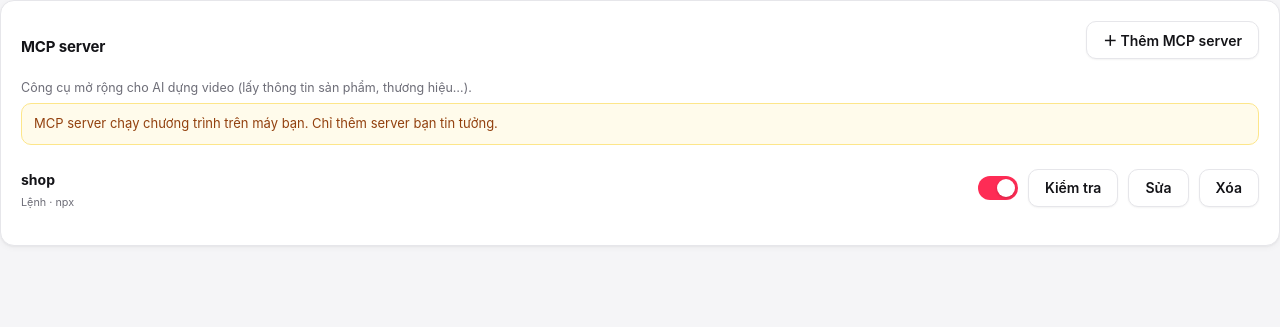
Test: Kiểm tra lists the tools
The image size is (1280, 327).
Click the button with aria-label "Kiểm tra shop". click: (1073, 188)
box: [1028,169,1118,207]
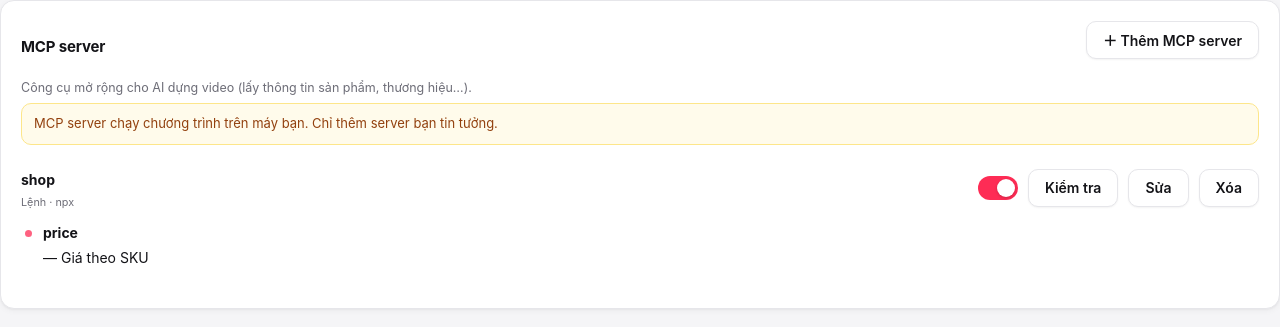
Check: the text "price" is shown, box [43,224,78,241]
Check: the list item "price — Giá theo SKU" is shown, box [43,224,149,266]
